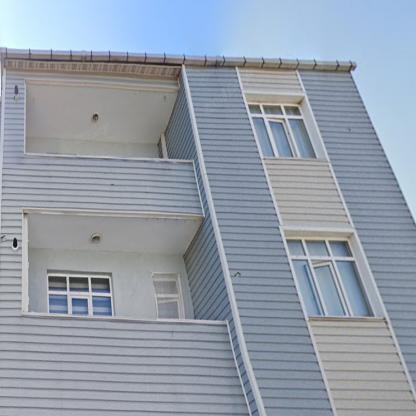door: (152, 274, 182, 320)
window: (286, 238, 376, 315), (247, 101, 317, 158), (48, 274, 112, 317)
